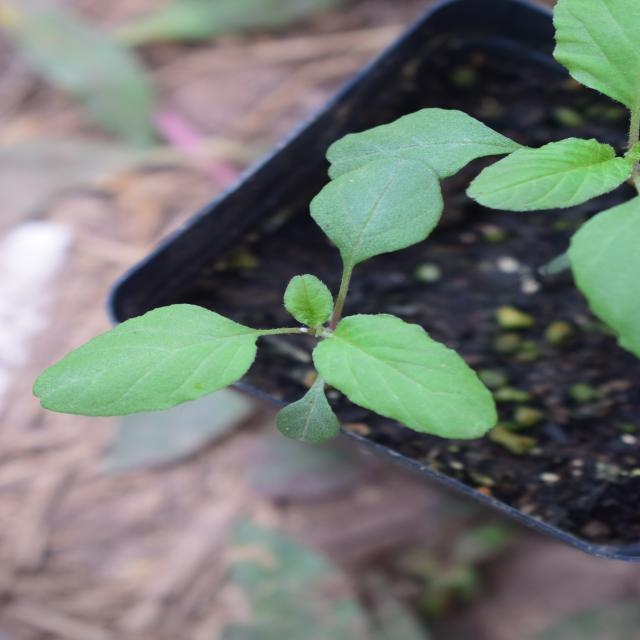pigweed: (196, 38, 485, 492)
